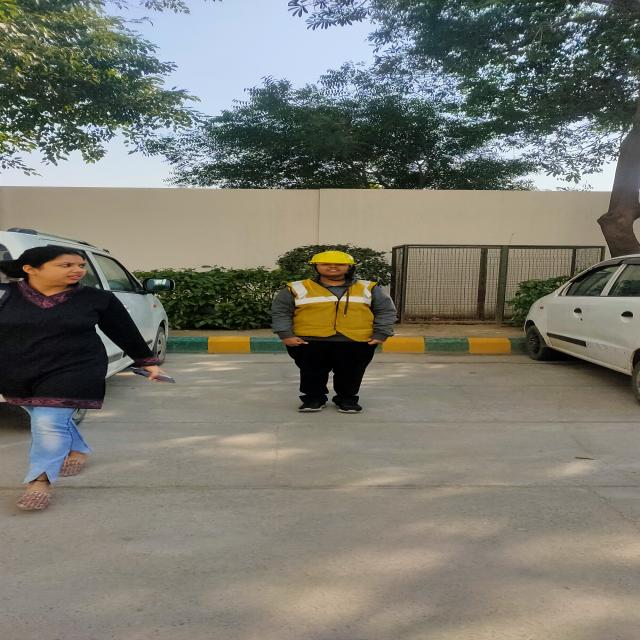safe: (273, 251, 396, 413)
unsafe: (2, 247, 106, 509)
